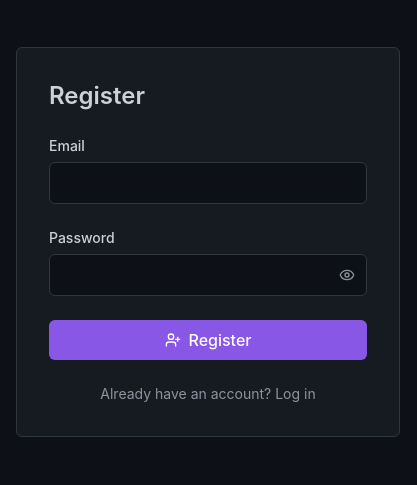
RegisterView › shows a duplicate-email message on 409
The image size is (417, 485).
Type "dup@example.com" into the field with id "register-email".
click(208, 183); type("dup@example.com")  # box [49,162,367,204]
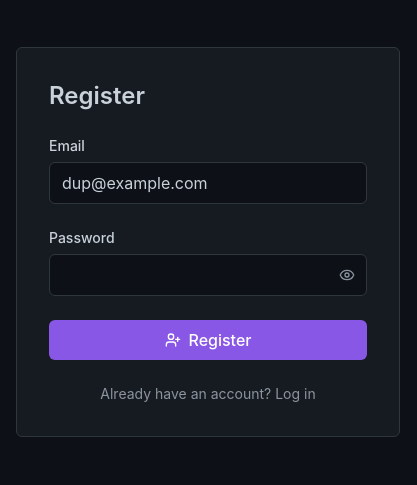
Type "password123" into the password field with id "register-password".
click(208, 275); type("password123")  # box [49,254,367,296]
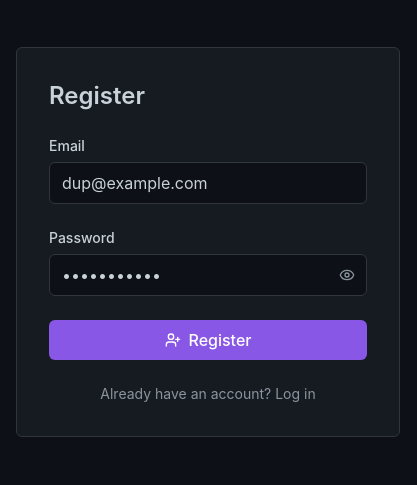
Submit the form
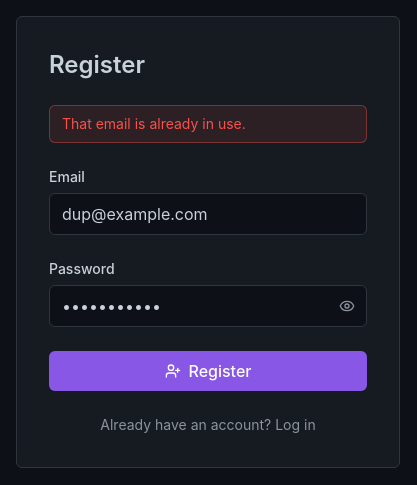
Check: the text "That email is already in use." is shown, box [49,105,367,143]
